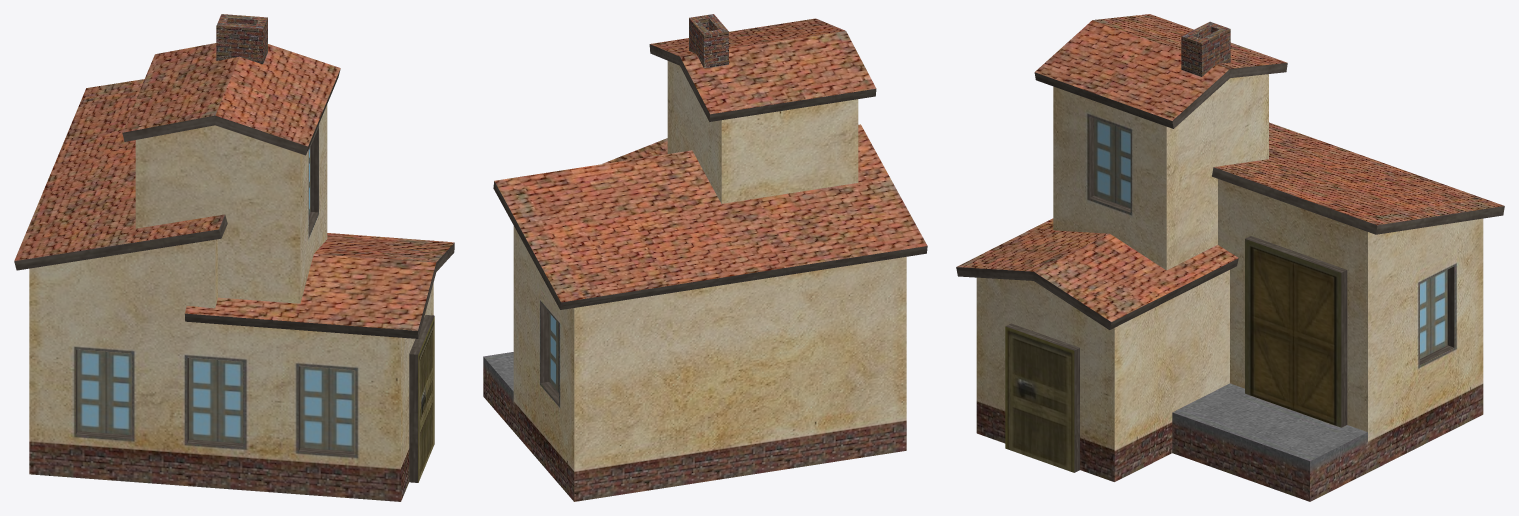
The picture shows the model from 3 angles, left to right: view 1: azimuth 30°, elevation 25°; view 2: azimuth 150°, elevation 25°; view 3: azimuth 270°, elevation 25°; orthographic projection. The views are drawn at different scales.
Parts seen in each view (by area): view 1: RigModels_Housejmjm 004; view 2: RigModels_Housejmjm 004; view 3: RigModels_Housejmjm 004.
Boxes of the visible parts, x1,y1,x2,y2 form: RigModels_Housejmjm 004: (14, 14, 454, 501); RigModels_Housejmjm 004: (483, 14, 927, 501); RigModels_Housejmjm 004: (956, 14, 1504, 501).
Size of the model in its own units: 2412 by 2888 by 2224.
Materials: 1 (1 with a texture image).
